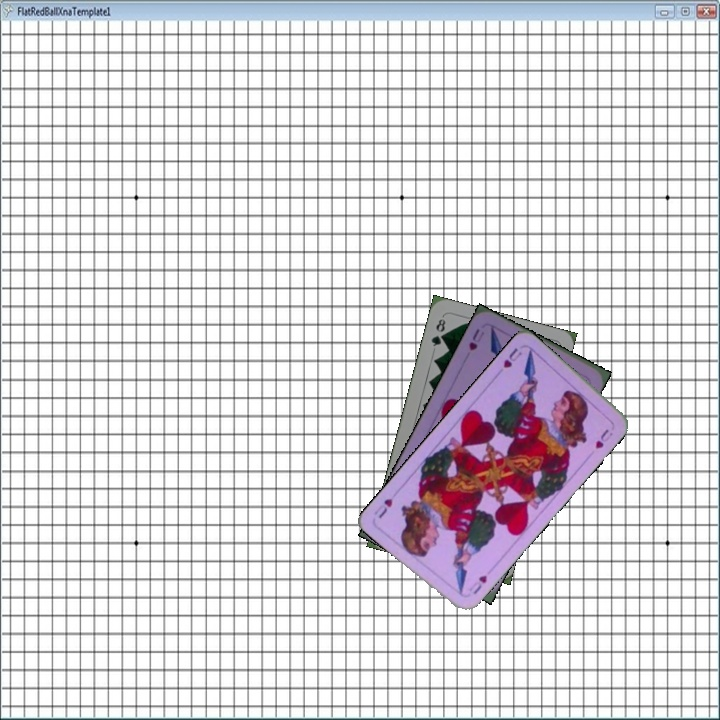G8: (427, 315, 448, 349)
HU: (499, 343, 525, 371), (465, 571, 490, 597), (465, 325, 483, 353)
